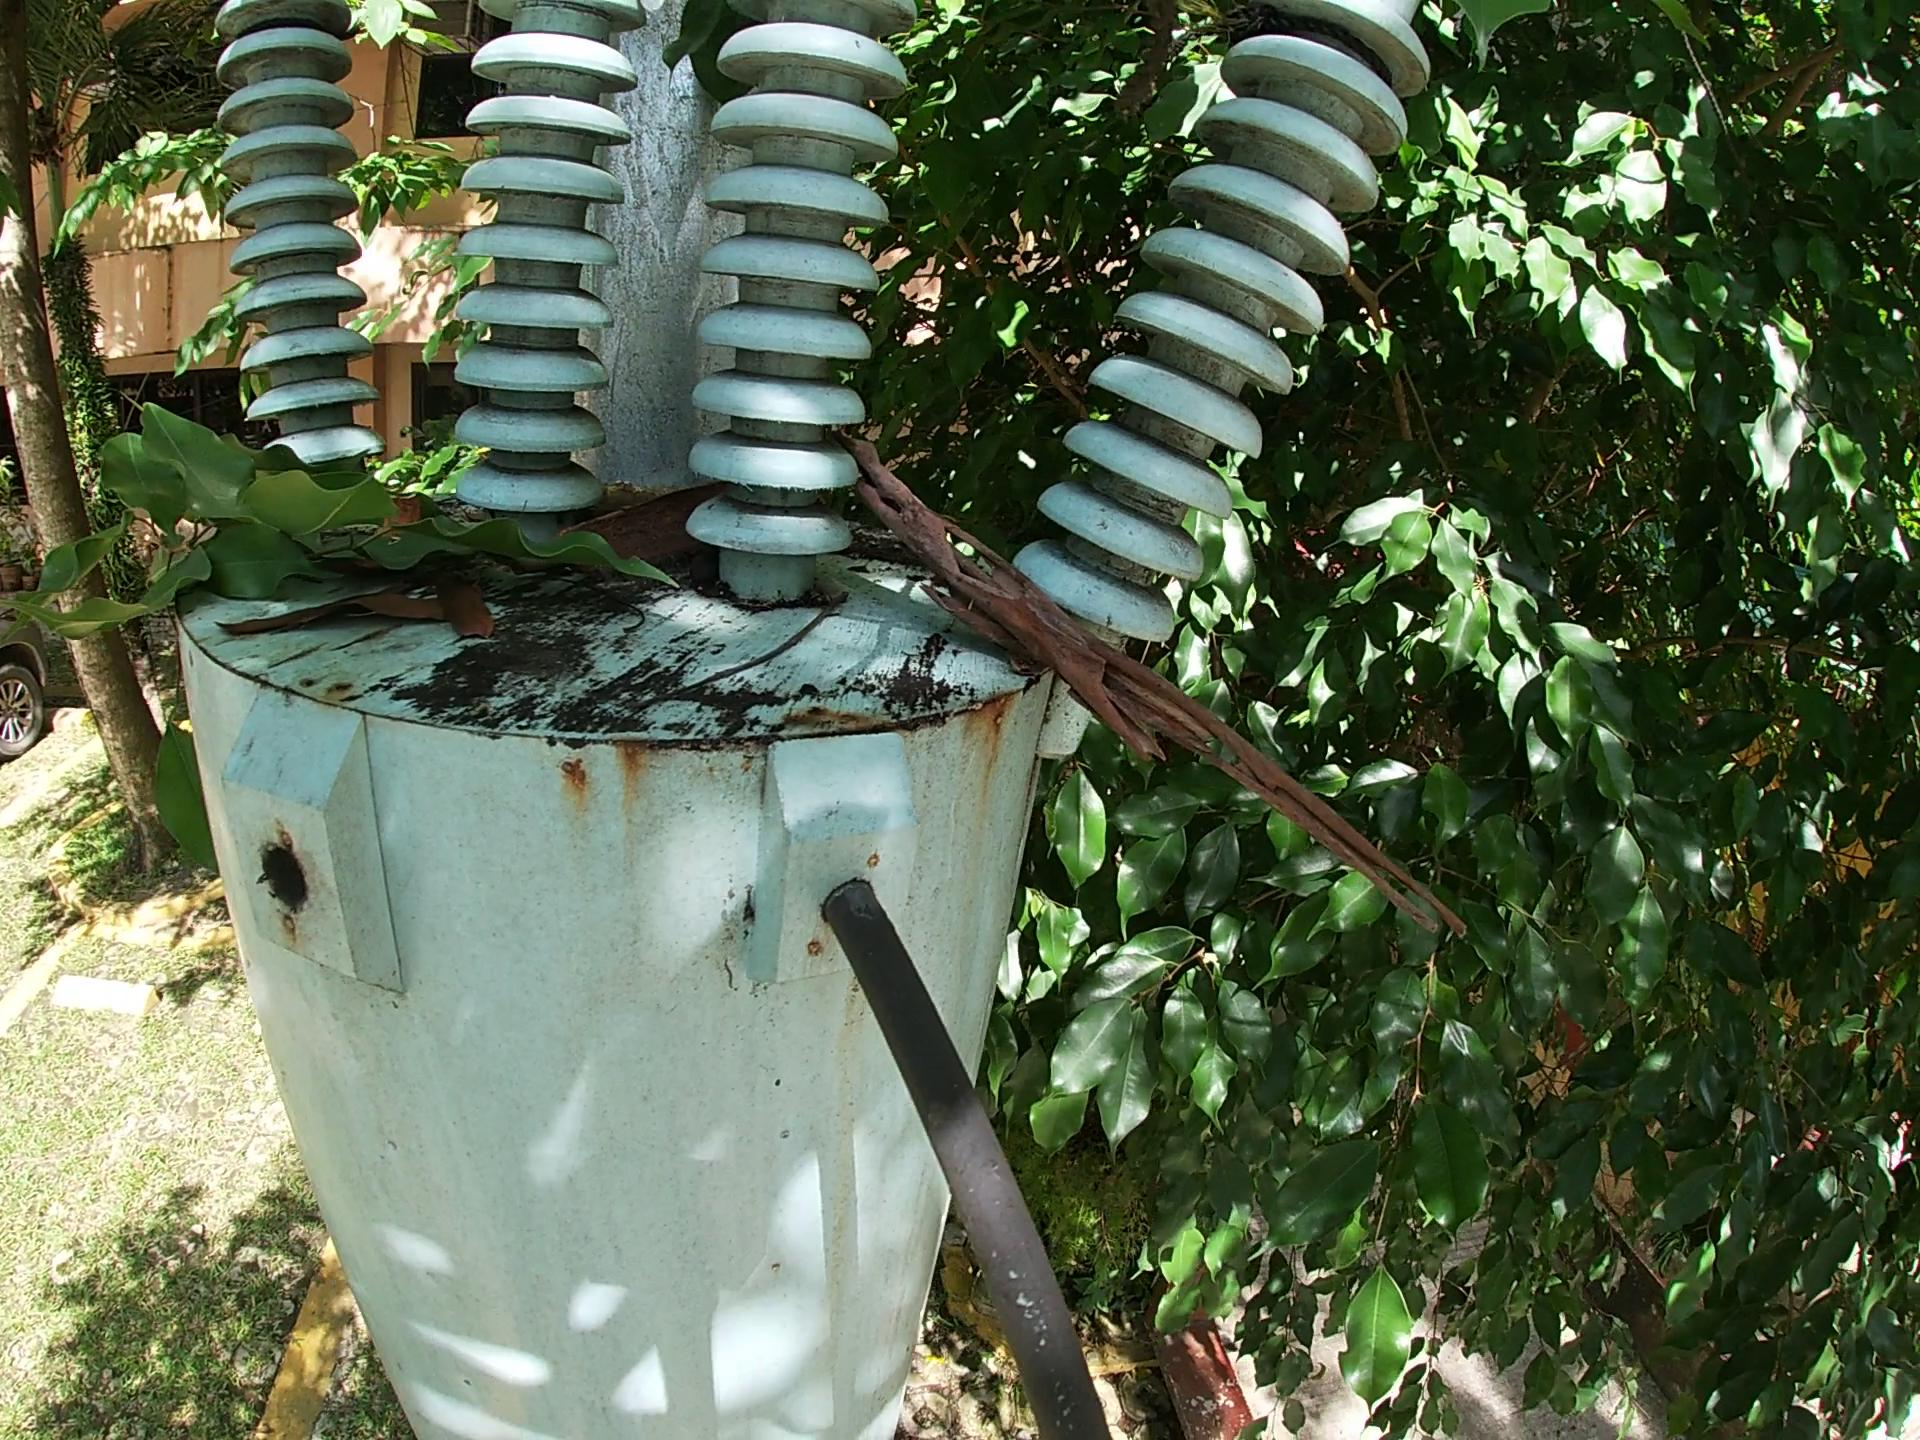branch with leaves: (5, 368, 692, 885)
leaf: (209, 563, 398, 643), (426, 563, 497, 649), (342, 593, 454, 631)
mahogany fruit: (544, 481, 741, 584)
tree branch: (831, 421, 1486, 957)
